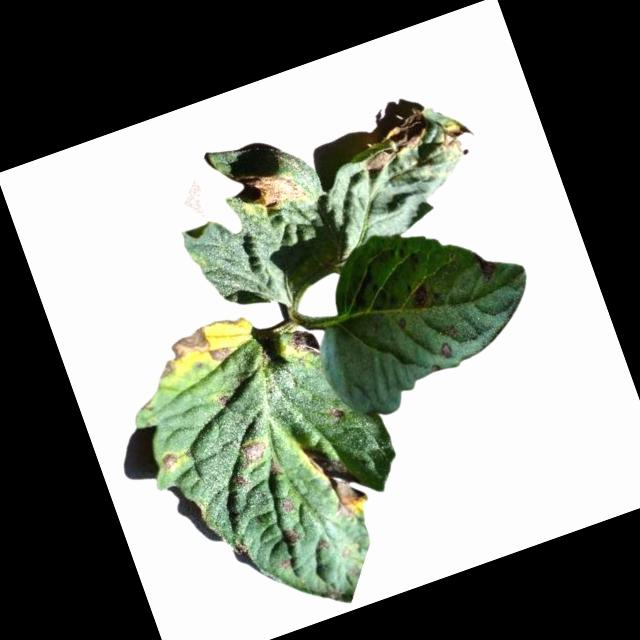Early_blight: (146, 318, 235, 388), (352, 106, 438, 173), (238, 159, 308, 219), (430, 113, 481, 162), (282, 322, 323, 363), (237, 438, 267, 465), (155, 449, 181, 471), (272, 552, 299, 573), (279, 522, 304, 544), (437, 335, 457, 358), (313, 534, 331, 553), (213, 391, 232, 408), (267, 457, 282, 477), (231, 471, 248, 488), (279, 494, 294, 511), (330, 404, 344, 420)
